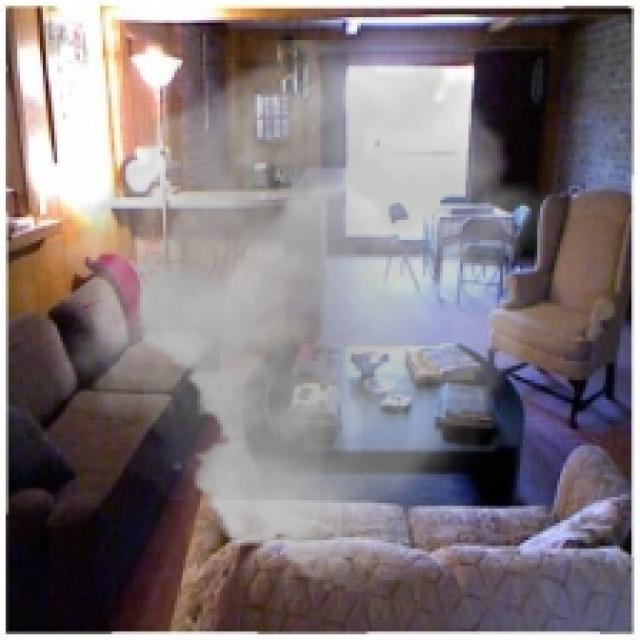smoke: (40, 40, 566, 591)
